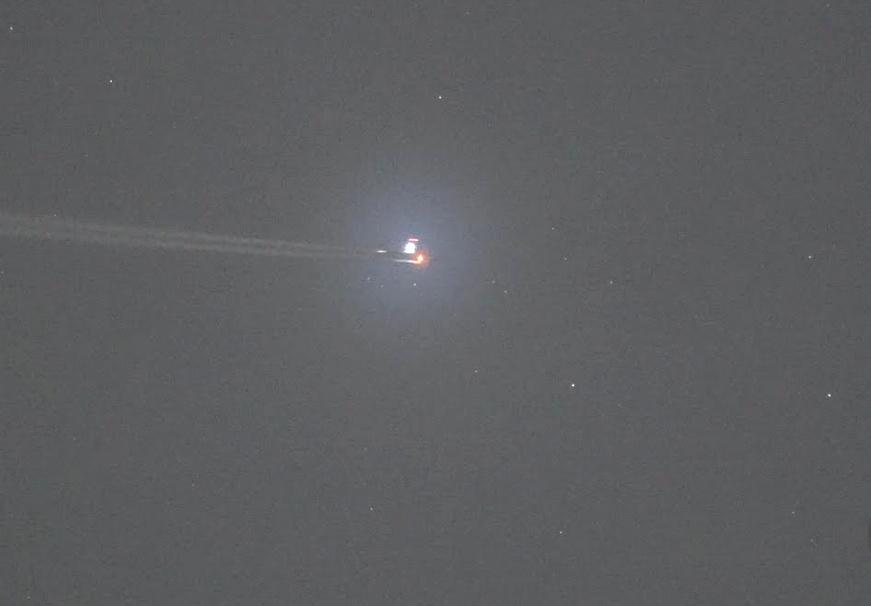Plane: (18, 150, 439, 290)
